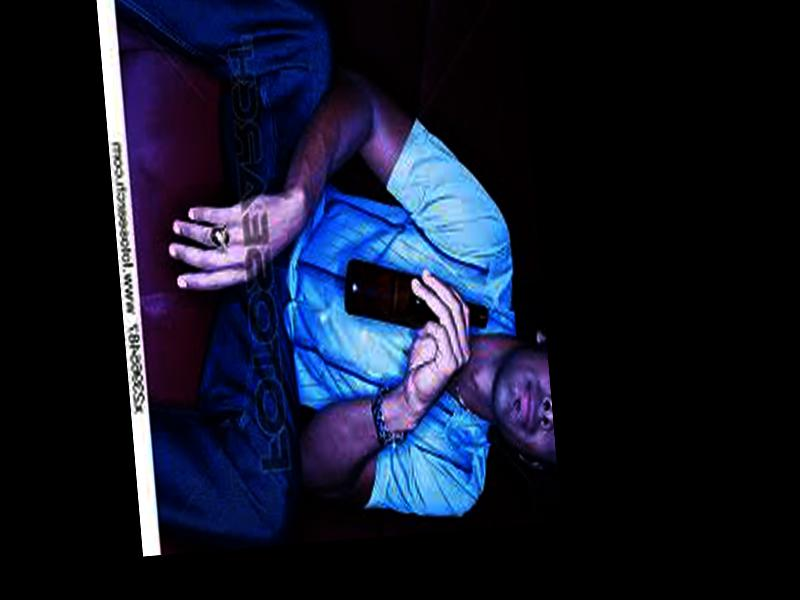Beer: (342, 246, 489, 339)
